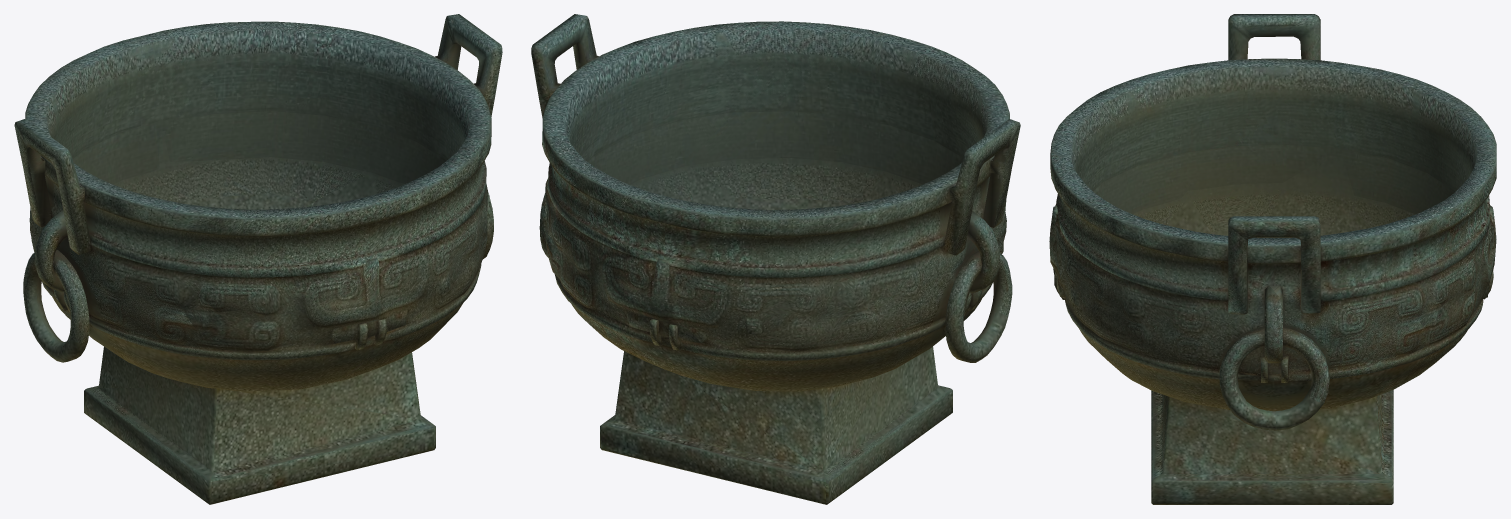
File: tripo_convert_b5837a70-d7dd-47bc-9407-074af922a2dd.fbx
3 views of the same model, side by side, from view 1: azimuth 30°, elevation 25°; view 2: azimuth 150°, elevation 25°; view 3: azimuth 270°, elevation 25° (orthographic). The views are drawn at different scales.
Visible parts, largest first — view 1: tripo_node_b5837a70; view 2: tripo_node_b5837a70; view 3: tripo_node_b5837a70.
Boxes of the visible parts, left/top/right/bottom form: tripo_node_b5837a70: left=14, top=14, right=502, bottom=504; tripo_node_b5837a70: left=531, top=14, right=1020, bottom=504; tripo_node_b5837a70: left=1049, top=14, right=1496, bottom=504.
Bounding box in the file's own units: 0.998 × 0.752 × 0.9082.
Materials: 1 (1 with a texture image).
